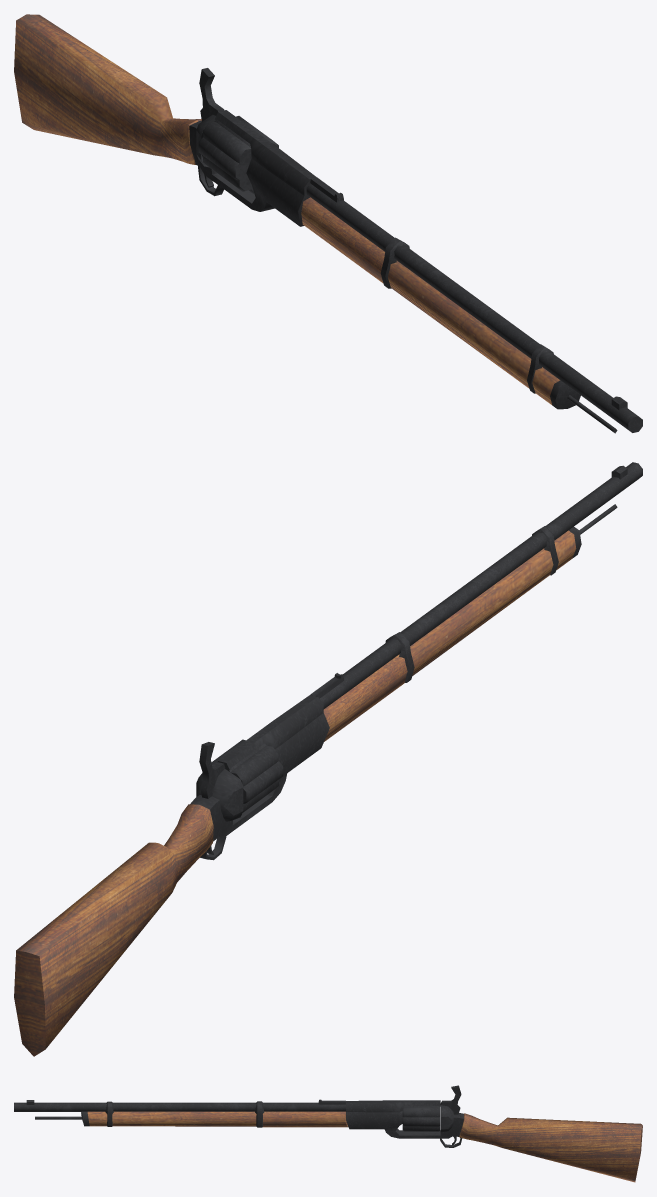
The model's file is 1216柯尔特连发步枪.FBX.
3 renders of one model, top to bottom at view 1: azimuth 30°, elevation 25°; view 2: azimuth 150°, elevation 25°; view 3: azimuth 270°, elevation 25°, orthographic. The views are drawn at different scales.
Visible parts, largest first — view 1: 1216_ColtWheelRifle; view 2: 1216_ColtWheelRifle; view 3: 1216_ColtWheelRifle.
Boxes of the visible parts, x1,y1,x2,y2 form: 1216_ColtWheelRifle: [14, 14, 642, 433]; 1216_ColtWheelRifle: [14, 462, 642, 1056]; 1216_ColtWheelRifle: [14, 1085, 642, 1182].
Bounding box in the file's own units: 5.63 × 19.64 × 116.
1 material, 1 textured.
